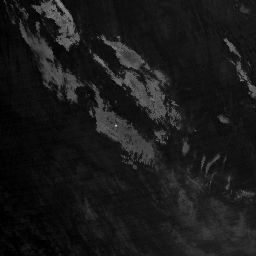Target: (113, 122, 118, 127)
